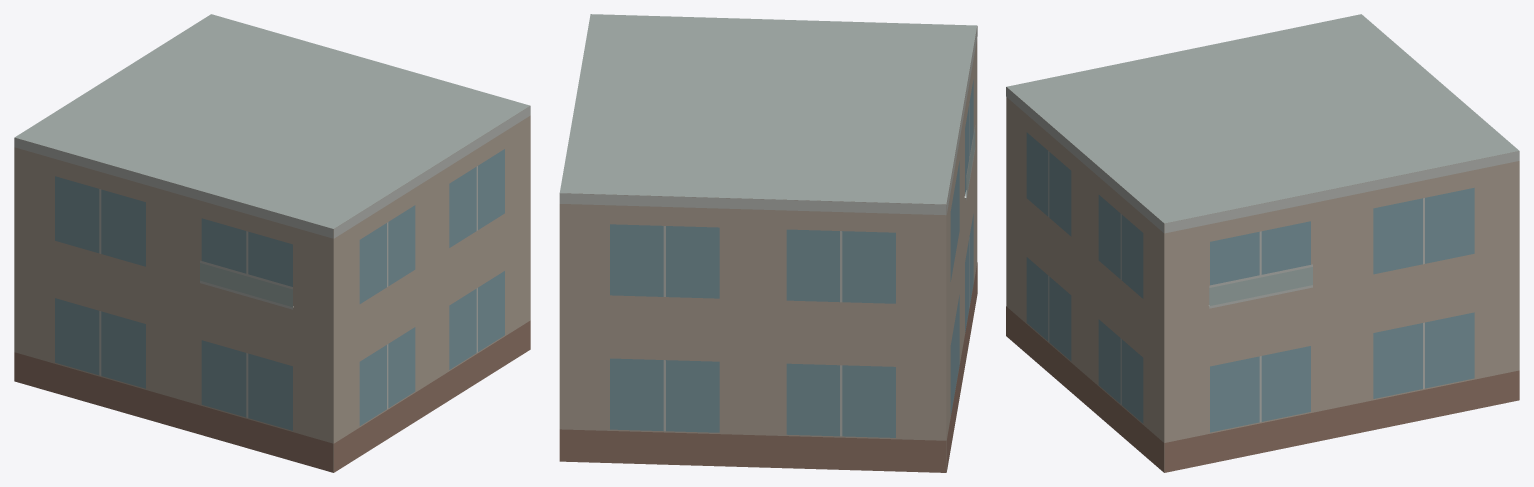
Rendered from survey-upis-32935293.glb.
3 views of the same model, side by side, from view 1: azimuth 30°, elevation 25°; view 2: azimuth 150°, elevation 25°; view 3: azimuth 270°, elevation 25° (orthographic). The views are drawn at different scales.
Visible parts, largest first — view 1: survey-upis-32935293.tmp; view 2: survey-upis-32935293.tmp; view 3: survey-upis-32935293.tmp.
Part boxes in pixels (x1,y1,x2,y2): survey-upis-32935293.tmp: (14,14,530,472); survey-upis-32935293.tmp: (559,14,977,472); survey-upis-32935293.tmp: (1006,14,1519,472).
Size of the model in its own units: 11 by 6.1 by 11.39.
